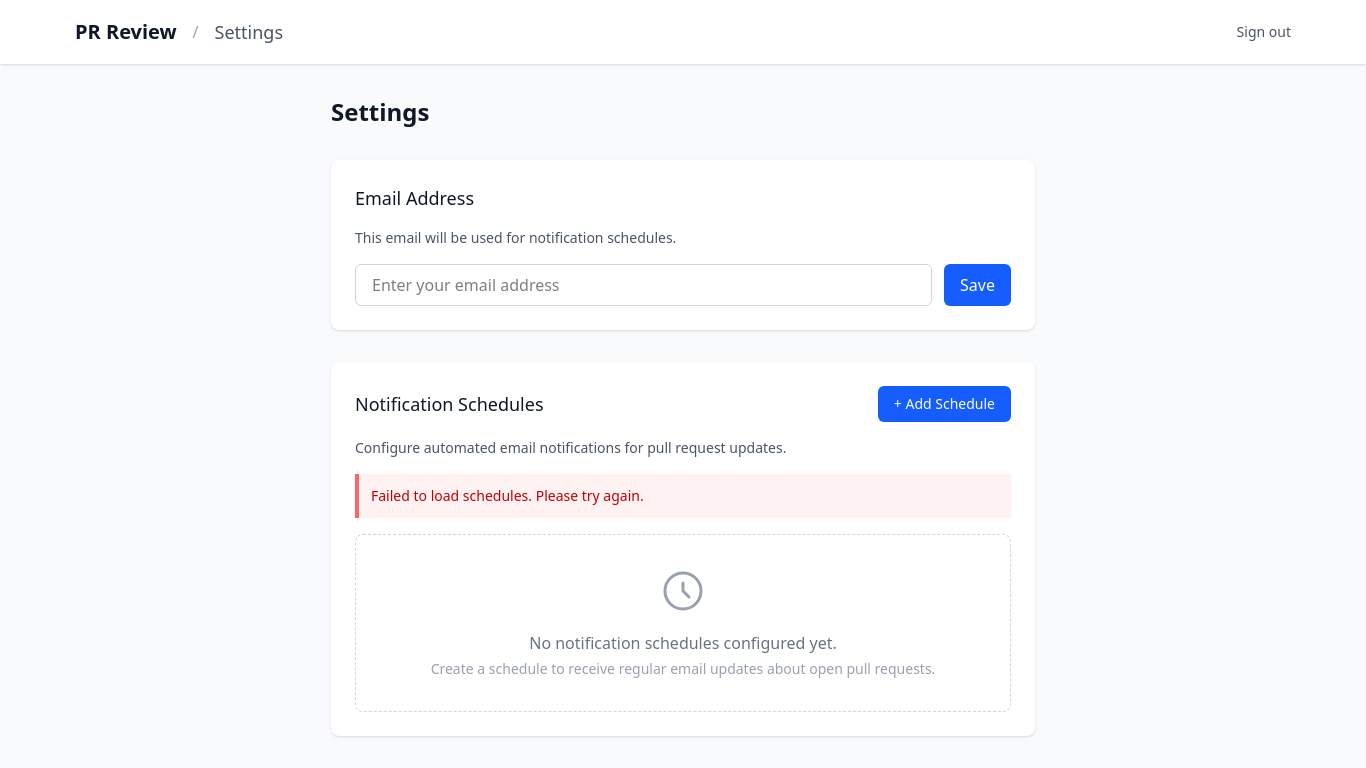
Test case: Settings › shows validation error for invalid email format
This screenshot has width=1366, height=768.
Type "invalid-email" into the field with placeholder "Enter your email address".
click(644, 285); type("invalid-email")  # box [355,264,932,306]
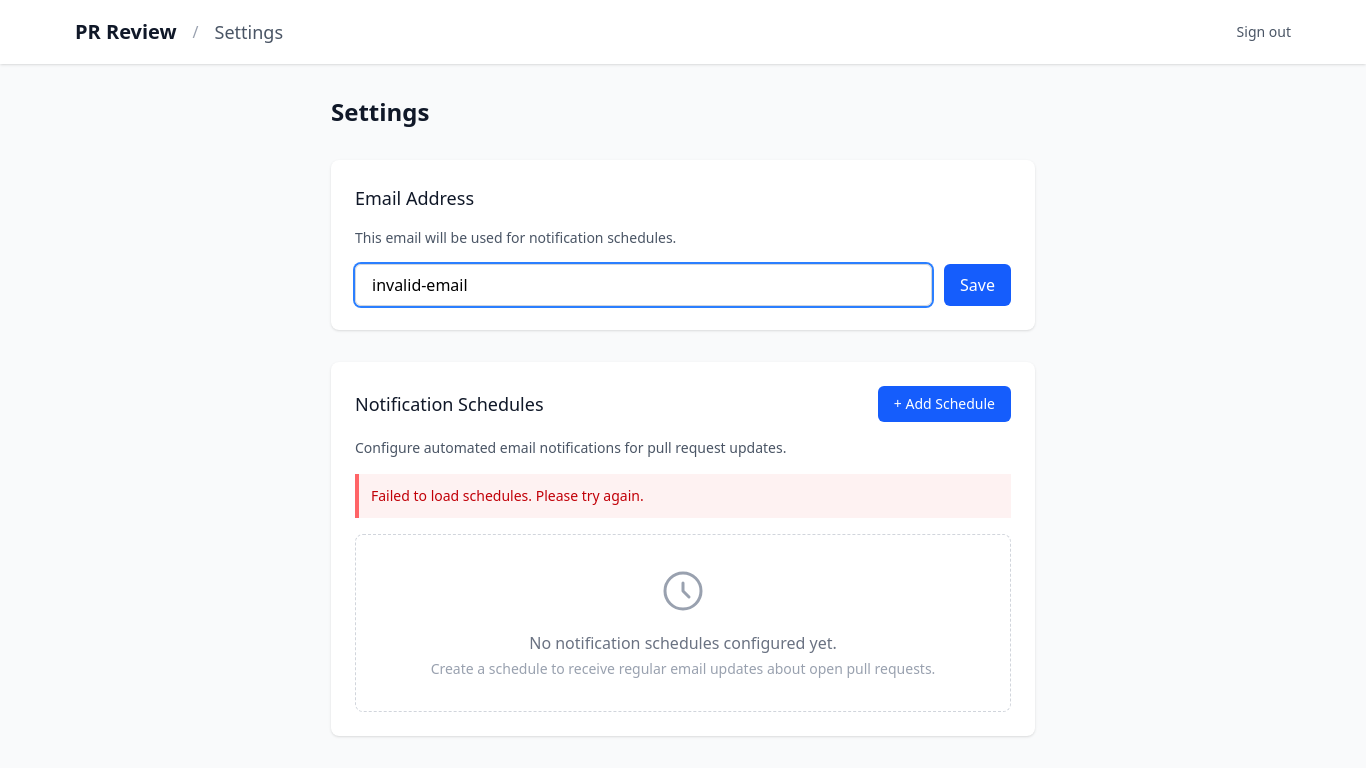
Click the button "Save".
click(978, 285)  # box [944,264,1011,306]
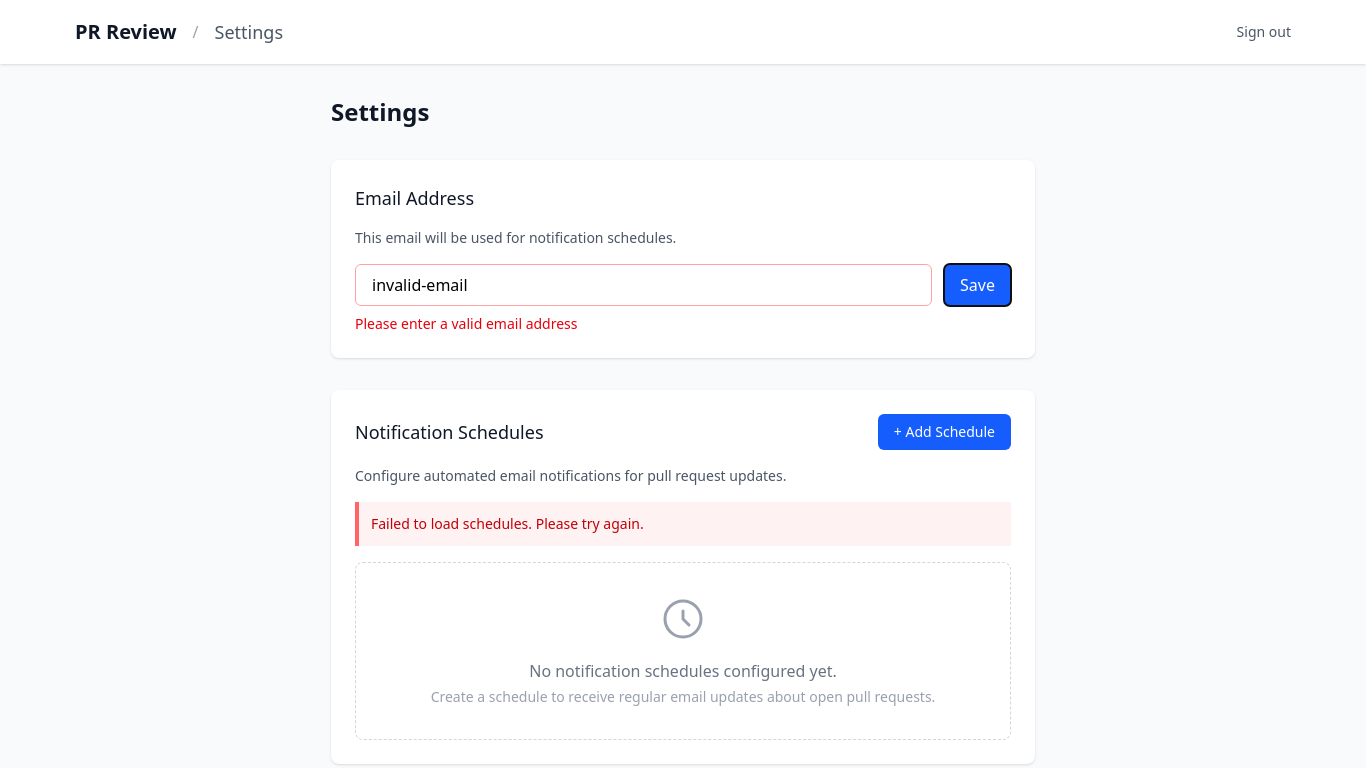
Expected: the text "Please enter a valid email address" is shown, [355,314,578,333]
